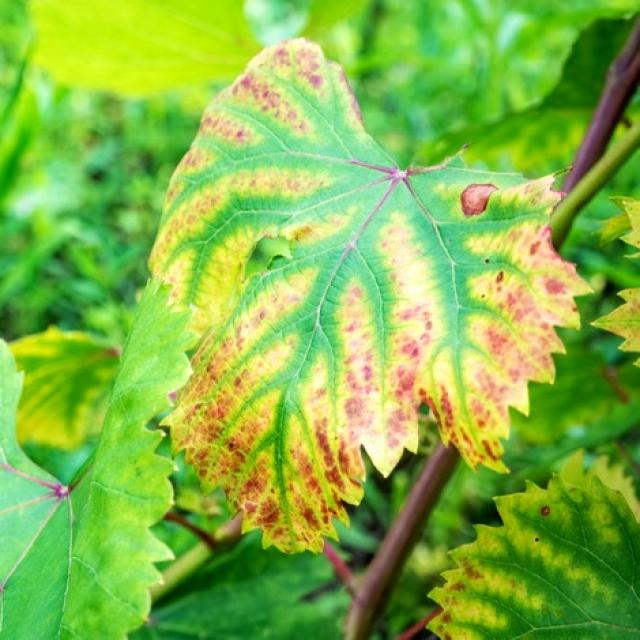Chlorosis: (180, 40, 511, 527)
